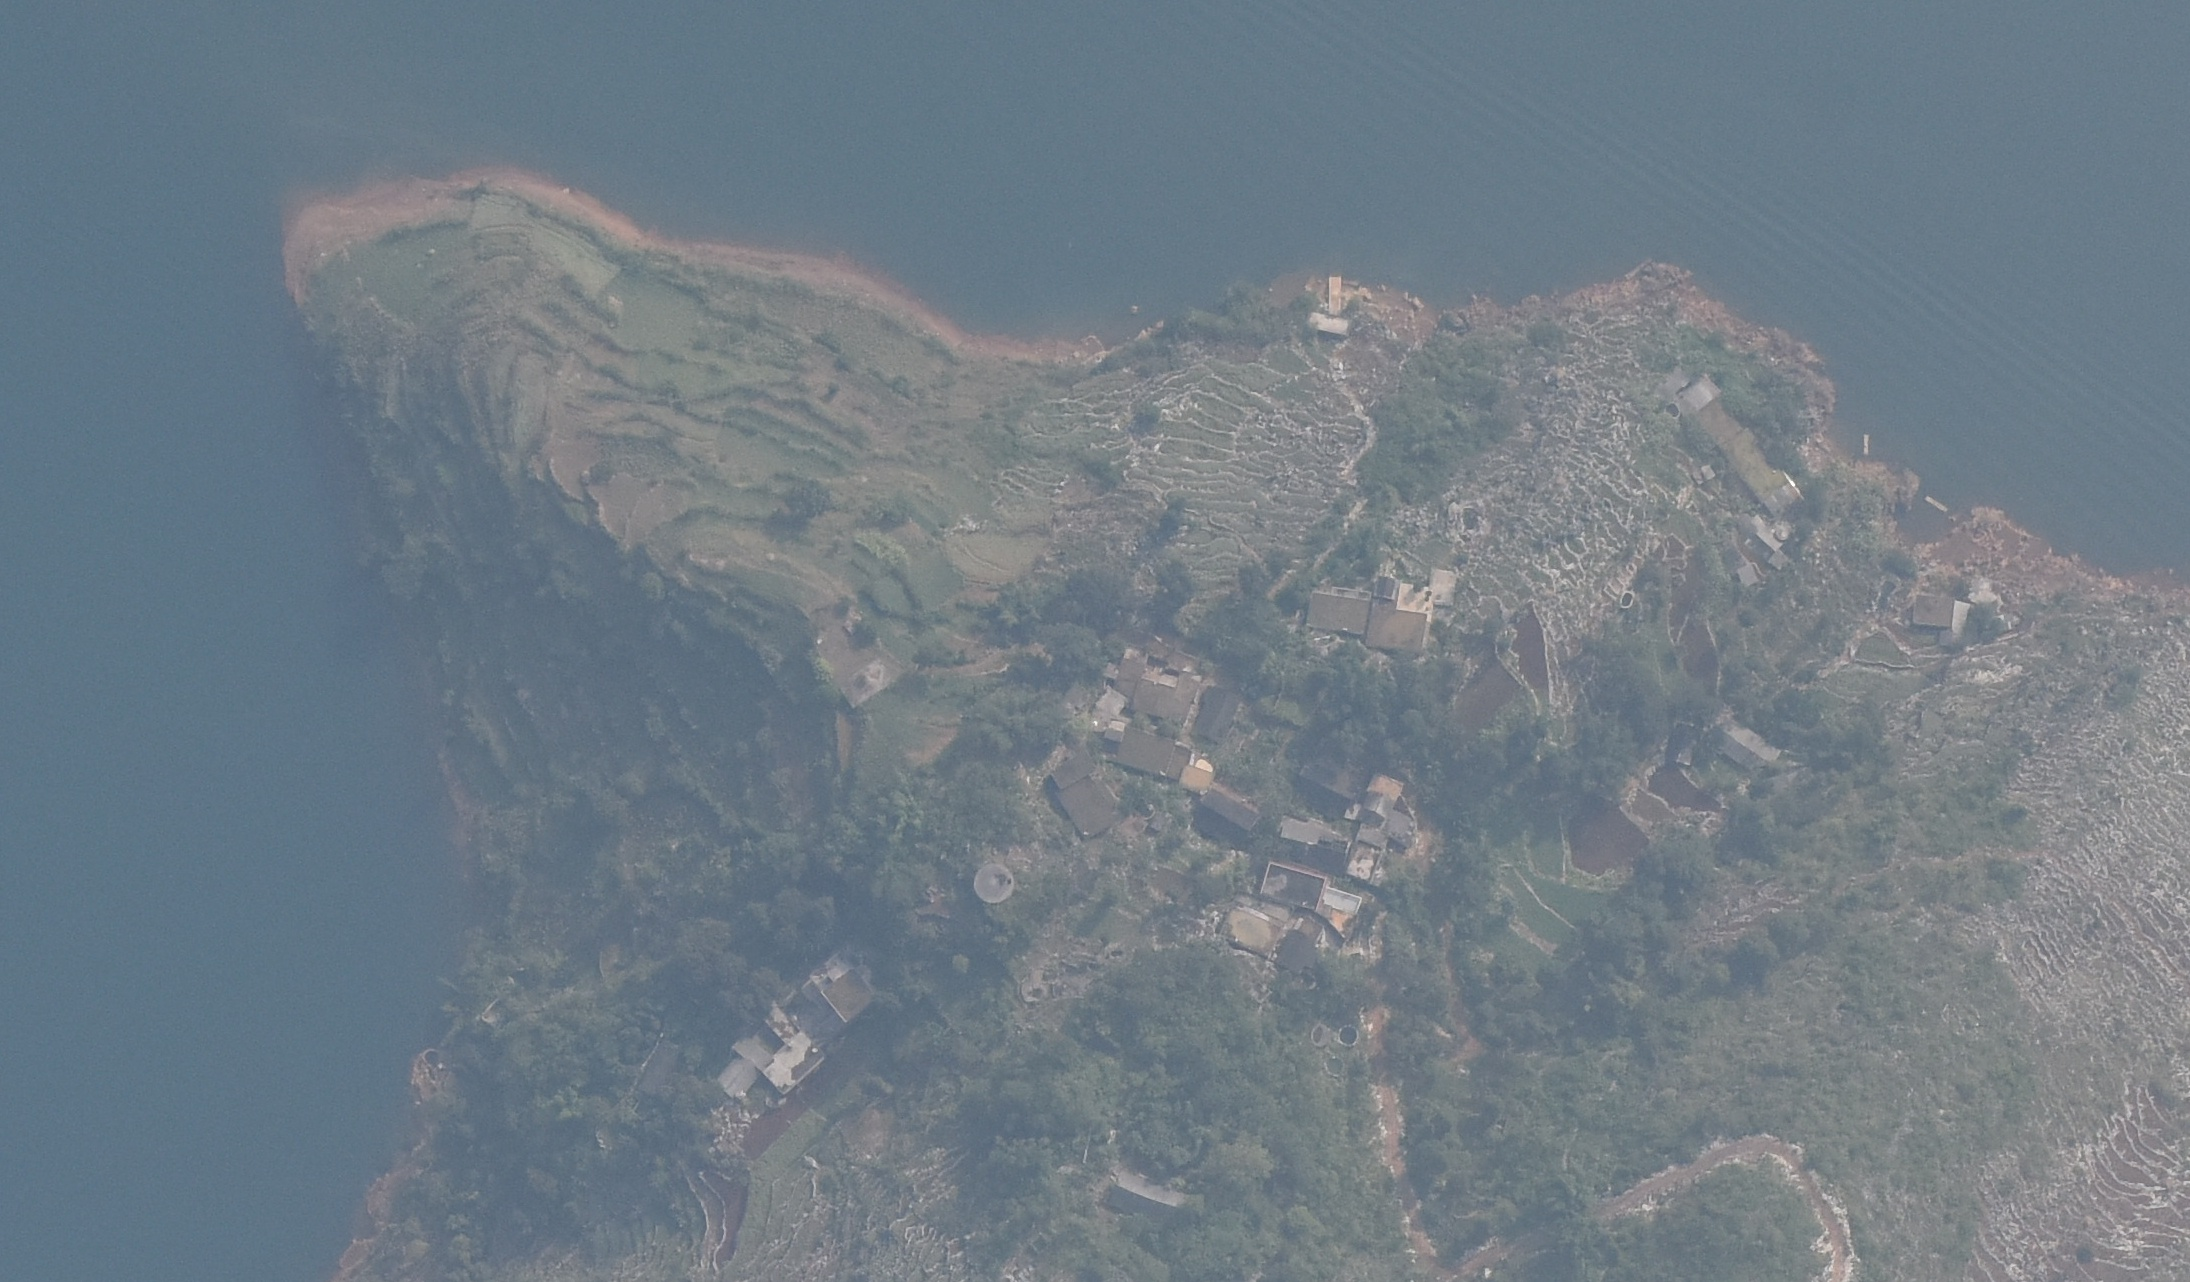building: (732, 1011, 826, 1094), (1113, 653, 1204, 728), (1733, 507, 1811, 589), (1044, 747, 1113, 838), (1364, 565, 1431, 657), (1305, 578, 1371, 654), (1115, 723, 1188, 790), (1110, 1163, 1186, 1225), (1360, 773, 1421, 846), (1262, 853, 1331, 912), (1277, 812, 1350, 867), (1908, 591, 1976, 647), (1225, 899, 1281, 963), (819, 965, 876, 1024), (637, 1035, 685, 1105), (1724, 721, 1782, 773), (1202, 792, 1259, 841), (1191, 681, 1234, 745), (715, 1053, 759, 1106), (1308, 313, 1356, 337), (1430, 566, 1456, 606), (1179, 763, 1212, 794)
prefabricated-house: (1923, 490, 1950, 518), (1862, 430, 1870, 457)
well: (973, 862, 1014, 905), (1335, 1020, 1361, 1053), (1319, 1056, 1353, 1081), (1307, 1018, 1333, 1048), (1618, 590, 1640, 610), (1665, 403, 1682, 423)
